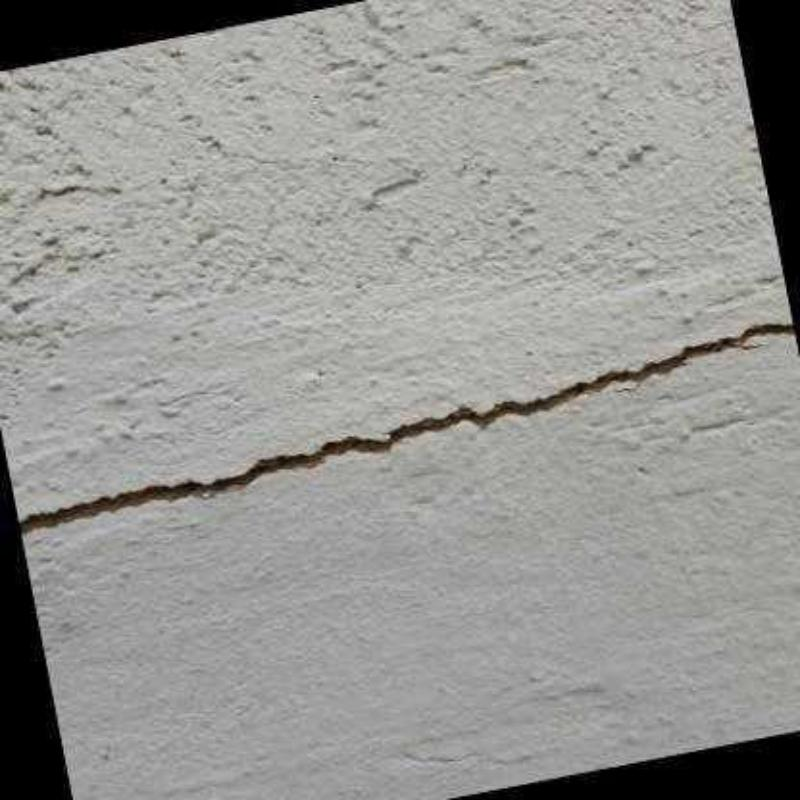pothole: (16, 322, 795, 535)
